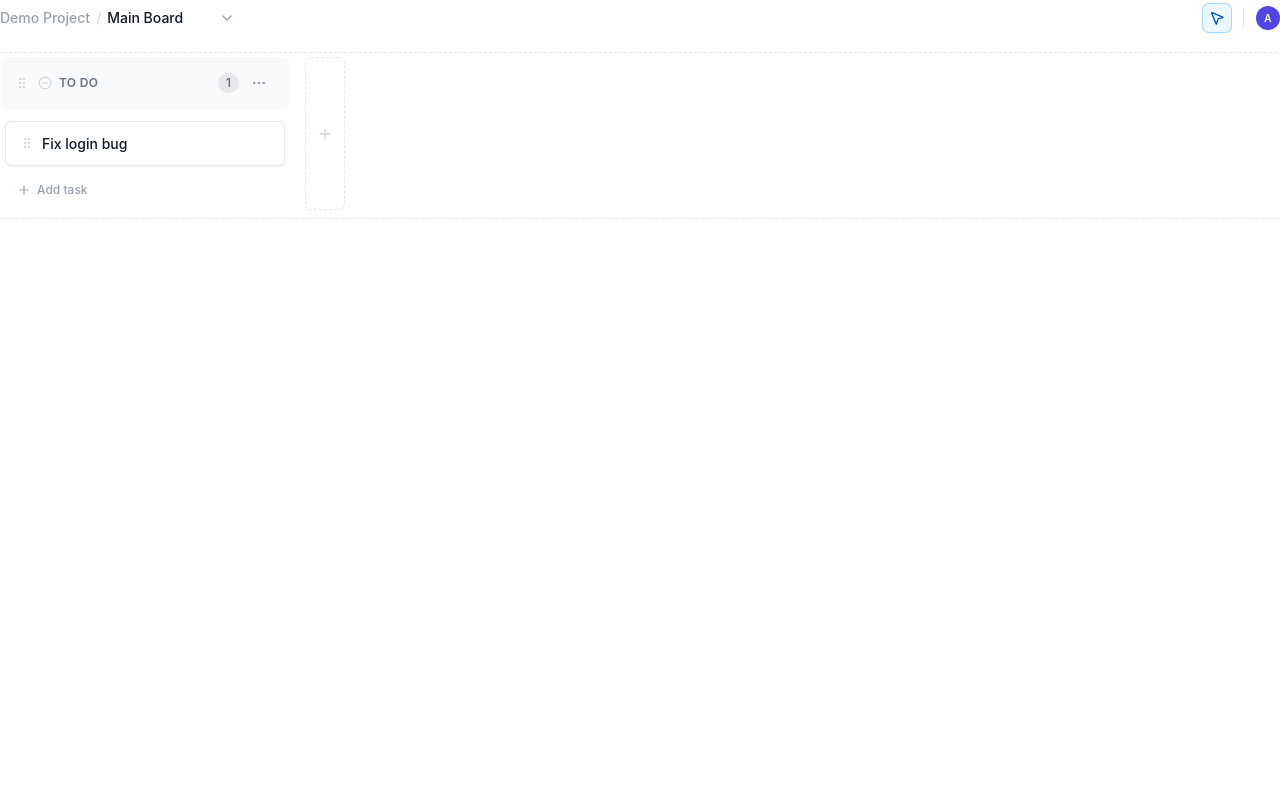
Scenario: KanbanBoard › opens the delete-column confirmation via the column's dropdown
Click the button named "options for column to do". click: coordinates (259, 83)
box: left=241, top=65, right=277, bottom=101
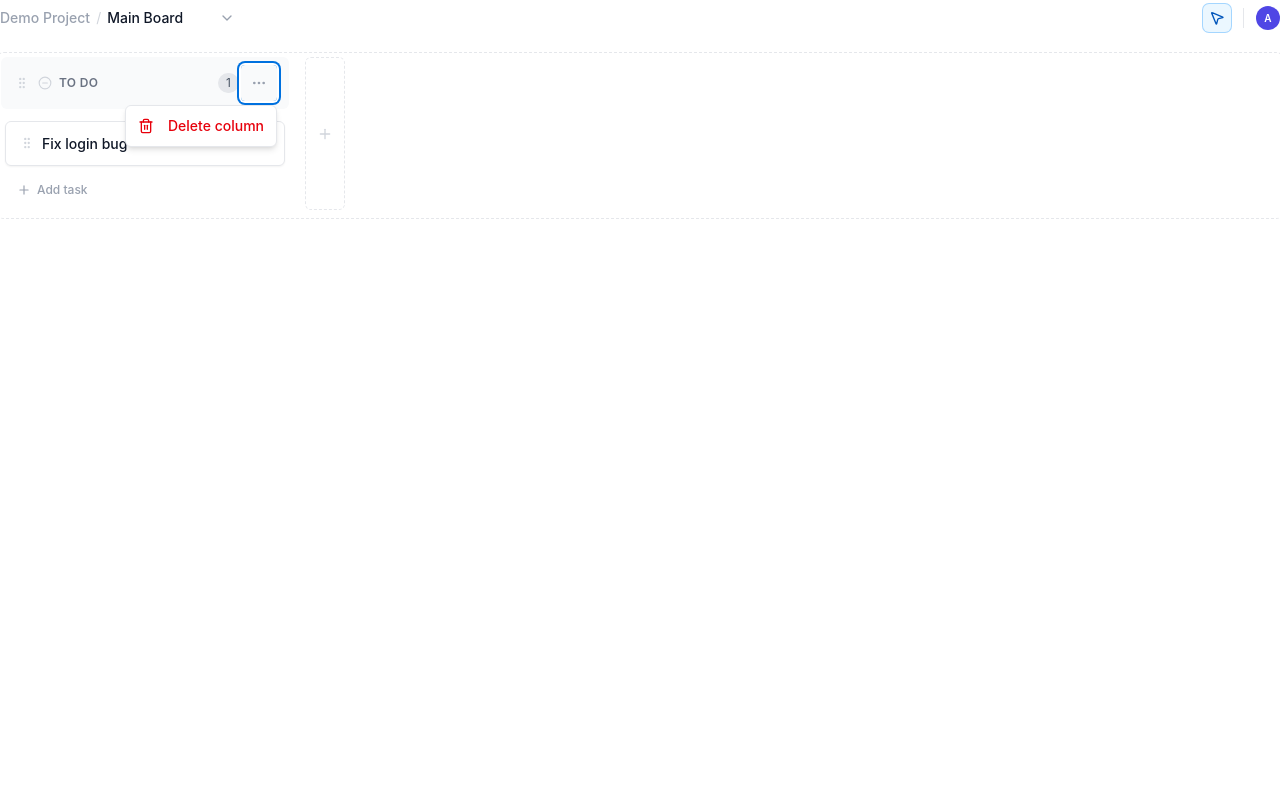
Click the menu item "Delete column". click: coordinates (201, 126)
box: left=126, top=110, right=276, bottom=142
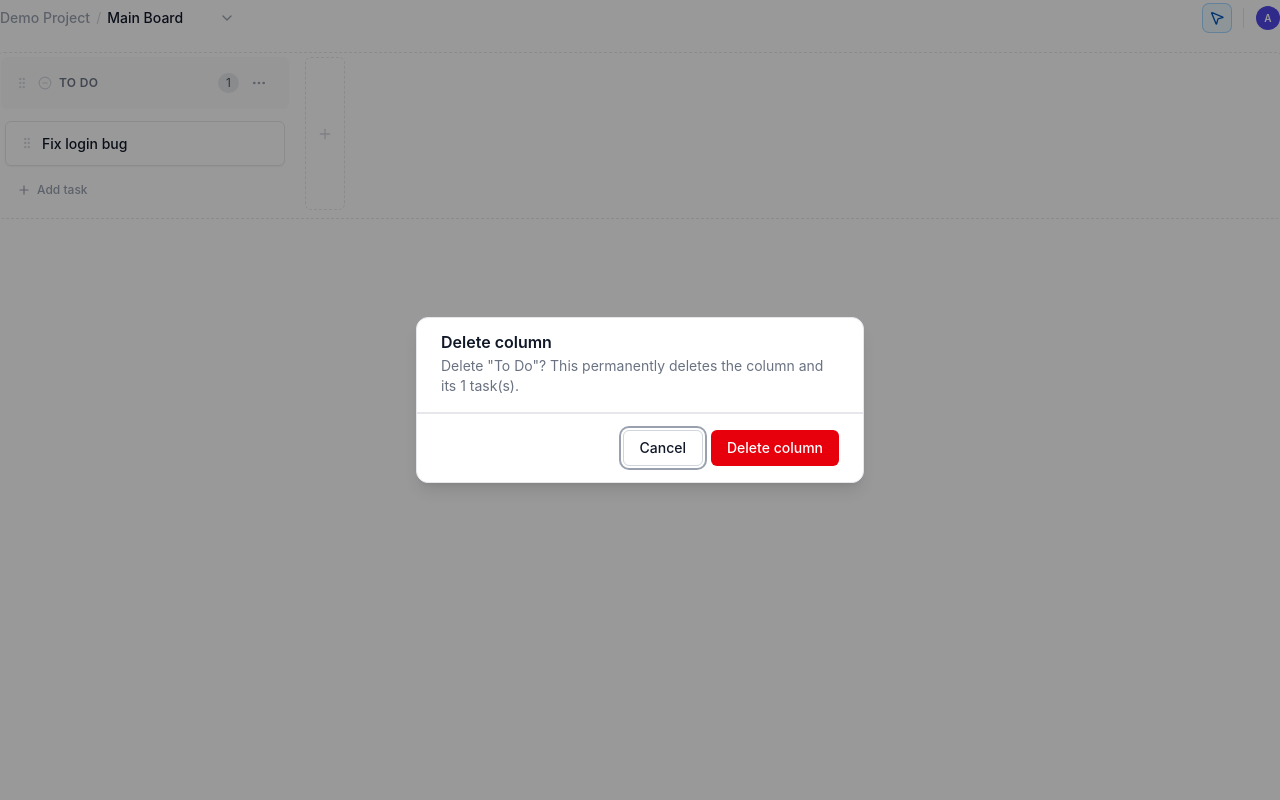
expect the heading "Delete column" is shown: met, box left=441, top=332, right=552, bottom=352
